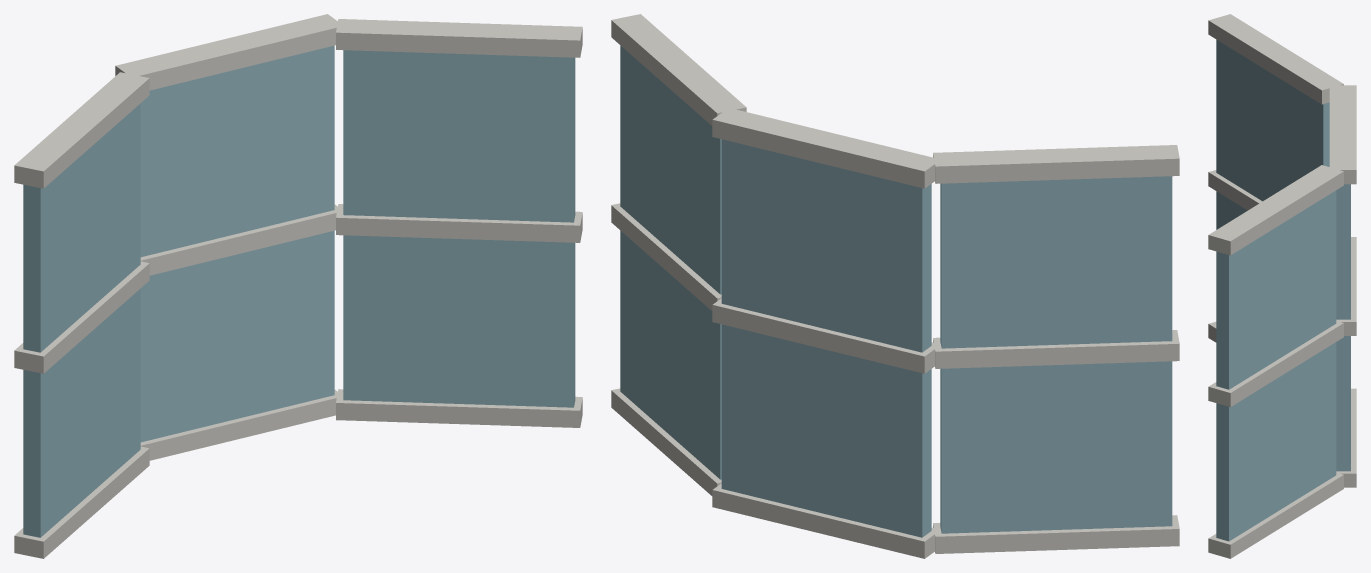
The model's file is bay_window.glb.
The picture shows the model from 3 angles, left to right: view 1: azimuth 30°, elevation 25°; view 2: azimuth 150°, elevation 25°; view 3: azimuth 270°, elevation 25°; orthographic projection. The views are drawn at different scales.
Visible parts, largest first — view 1: world; view 2: world; view 3: world.
Part boxes in pixels (x1=…): world: x1=14, y1=14, x2=582, y2=558; world: x1=611, y1=14, x2=1179, y2=558; world: x1=1208, y1=14, x2=1356, y2=558.
Size of the model in its own units: 2.41 by 1.57 by 0.6636.
